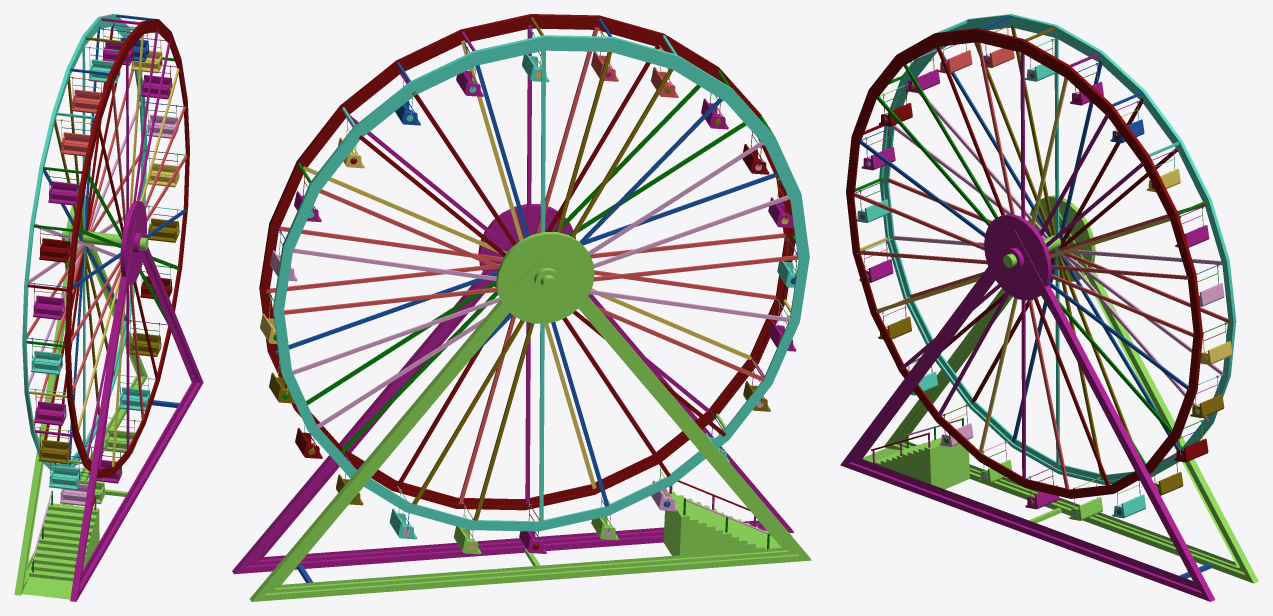
The picture shows the model from 3 angles, left to right: view 1: azimuth 30°, elevation 25°; view 2: azimuth 150°, elevation 25°; view 3: azimuth 270°, elevation 25°; orthographic projection. The views are drawn at different scales.
Visible parts, largest first — view 1: Group_376, Group_169, Ferris_Wheel_001, Group_16_001, Group_377, Group_181, Group_180, Group_176, Group_175, Group_179, Group_192, Group_177 (+40 smaller); view 2: Group_16_001, Group_377, Group_169, Ferris_Wheel_001, Group_376, Group_183, Group_182, Group_189, Group_190, Group_191, Group_184, Group_171 (+16 smaller); view 3: Group_376, Group_169, Group_16_001, Group_377, Ferris_Wheel_001, Group_178, Group_179, Group_180, Group_172, Group_171, Group_185, Group_181 (+17 smaller).
Part boxes in pixels (box(x1,y1,x2,y2)): Group_376: box(70, 201, 203, 601); Group_169: box(64, 19, 189, 478); Ferris_Wheel_001: box(22, 253, 137, 599); Group_16_001: box(22, 14, 147, 470); Group_377: box(14, 195, 148, 595); Group_181: box(112, 34, 143, 466); Group_180: box(126, 52, 129, 450); Group_176: box(78, 68, 179, 430); Group_175: box(86, 40, 170, 460); Group_179: box(111, 83, 144, 420); Group_192: box(82, 43, 85, 447); Group_177: box(72, 106, 186, 392); Group_16_001: box(272, 35, 809, 531); Group_377: box(250, 232, 811, 601); Group_169: box(259, 14, 795, 510); Ferris_Wheel_001: box(266, 302, 797, 593); Group_376: box(232, 204, 793, 574); Group_183: box(292, 195, 789, 374); Group_182: box(284, 255, 798, 314); Group_189: box(290, 248, 790, 321); Group_190: box(412, 68, 673, 504); Group_191: box(473, 52, 611, 520); Group_184: box(317, 141, 763, 428); Group_171: box(275, 173, 777, 353); Group_376: box(840, 214, 1215, 601); Group_169: box(846, 28, 1202, 498); Group_16_001: box(879, 14, 1236, 484); Group_377: box(885, 195, 1258, 583); Ferris_Wheel_001: box(862, 229, 1243, 572); Group_178: box(936, 46, 1109, 485); Group_179: box(977, 42, 1069, 489); Group_180: box(1020, 52, 1025, 478); Group_172: box(876, 96, 1172, 433); Group_171: box(859, 140, 1188, 389); Group_185: box(936, 49, 1179, 450); Group_181: box(978, 77, 1067, 453).
Size of the model in its own units: 17692 by 23136 by 17692.
Materials: 10 (10 with a texture image).
